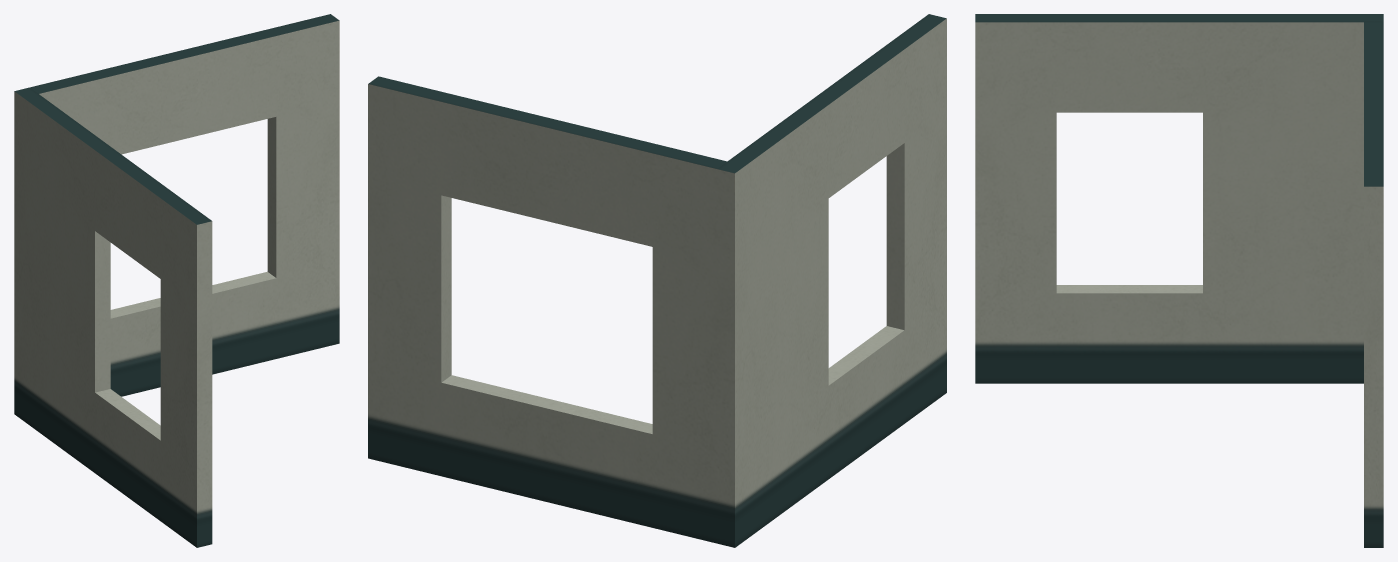
File: Wall_5_Corner_G.fbx
3 renders of one model, left to right at view 1: azimuth 30°, elevation 25°; view 2: azimuth 150°, elevation 25°; view 3: azimuth 270°, elevation 25°, orthographic. The views are drawn at different scales.
Visible parts, largest first — view 1: polySurface37; view 2: polySurface37; view 3: polySurface37.
Part boxes in pixels (x1,y1,x2,y2): polySurface37: (14,14,339,547); polySurface37: (368,14,946,547); polySurface37: (975,14,1383,547).
Size of the model in its own units: 4.1 by 4 by 4.1.
